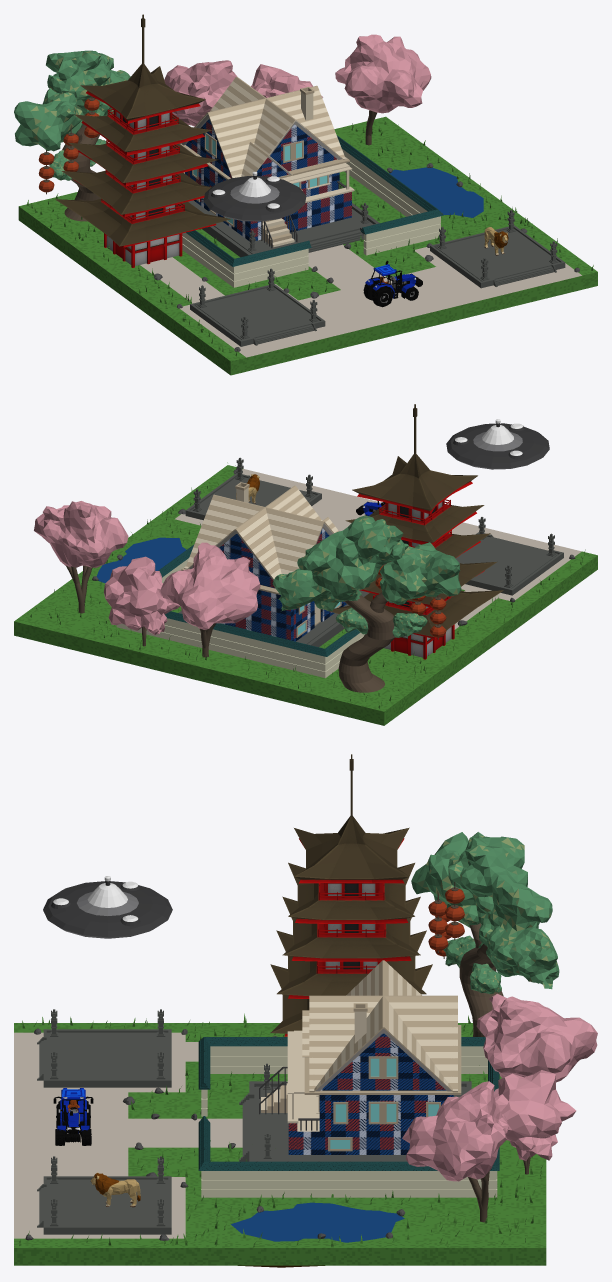
The picture shows the model from 3 angles, top to bottom: view 1: azimuth 30°, elevation 25°; view 2: azimuth 150°, elevation 25°; view 3: azimuth 270°, elevation 25°; orthographic projection. The views are drawn at different scales.
Parts seen in each view (by area): view 1: Cube.005, Cube.171, OBJRANDOM_UFO, VEHICLES_TRACTOR; view 2: Cube.005, Cube.171, OBJRANDOM_UFO; view 3: Cube.005, Cube.171, OBJRANDOM_UFO, VEHICLES_TRACTOR, ANIMAL_LEON.
Part boxes in pixels (x1=…): Cube.005: x1=14, y1=14, x2=597, y2=375; Cube.171: x1=179, y1=76, x2=354, y2=248; OBJRANDOM_UFO: x1=203, y1=171, x2=306, y2=221; VEHICLES_TRACTOR: x1=363, y1=260, x2=422, y2=307; Cube.005: x1=14, y1=404, x2=597, y2=725; Cube.171: x1=181, y1=482, x2=346, y2=641; OBJRANDOM_UFO: x1=446, y1=419, x2=549, y2=469; Cube.005: x1=14, y1=754, x2=597, y2=1265; Cube.171: x1=259, y1=960, x2=461, y2=1154; OBJRANDOM_UFO: x1=43, y1=876, x2=172, y2=938; VEHICLES_TRACTOR: x1=53, y1=1088, x2=93, y2=1145; ANIMAL_LEON: x1=90, y1=1172, x2=140, y2=1207.
Size of the model in its own units: 4528 by 2756 by 4389.
39 materials, 6 textured.
